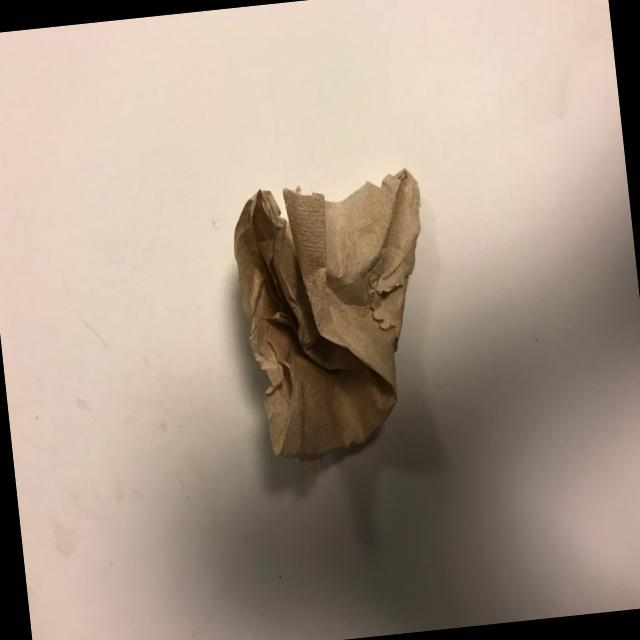Paper: (226, 162, 446, 468)
